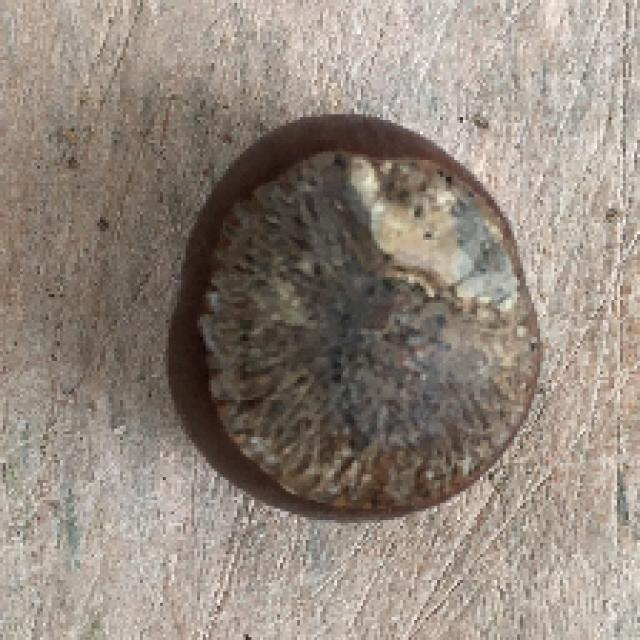damagedHazelnut: (162, 108, 554, 528)
